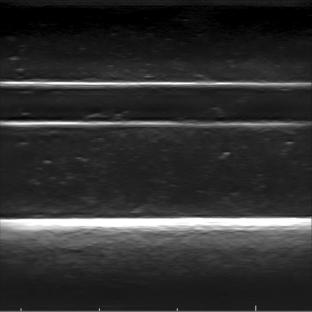vessel: (5, 79, 309, 128)
